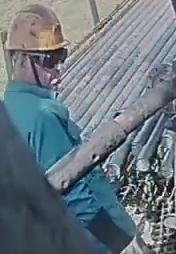goggles: (25, 48, 68, 69)
helmet: (3, 3, 70, 51)
vest: (2, 83, 137, 235)
